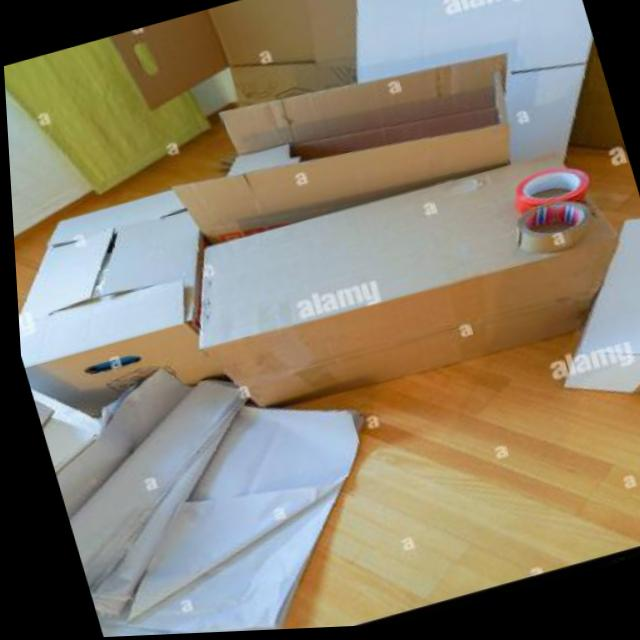box: (157, 136, 640, 464), (159, 23, 549, 251), (8, 173, 231, 432)
